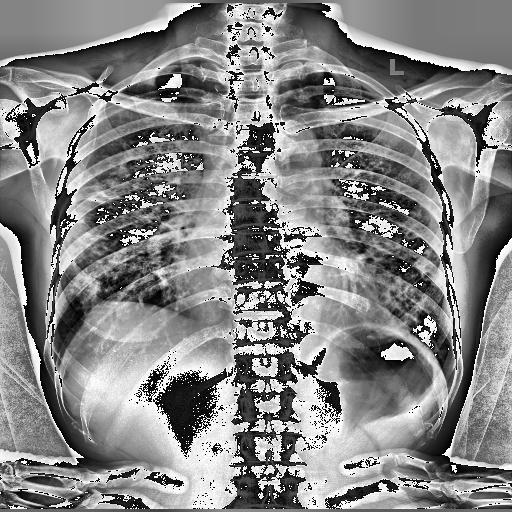0- Aortic enlargement: (253, 118, 324, 187), (264, 120, 319, 168)
13- Pulmonary fibrosis: (54, 122, 210, 318), (60, 148, 172, 308), (342, 148, 442, 322)
5- ILD: (54, 122, 210, 318), (310, 137, 444, 350), (306, 133, 445, 337), (66, 138, 208, 312), (60, 148, 172, 308), (342, 148, 442, 322)
9- Other lesion: (342, 148, 442, 322)
